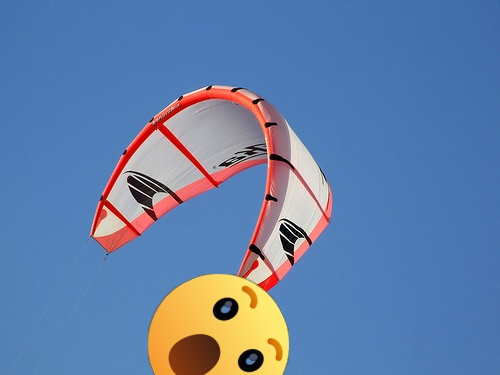wow: (148, 274, 289, 375)
